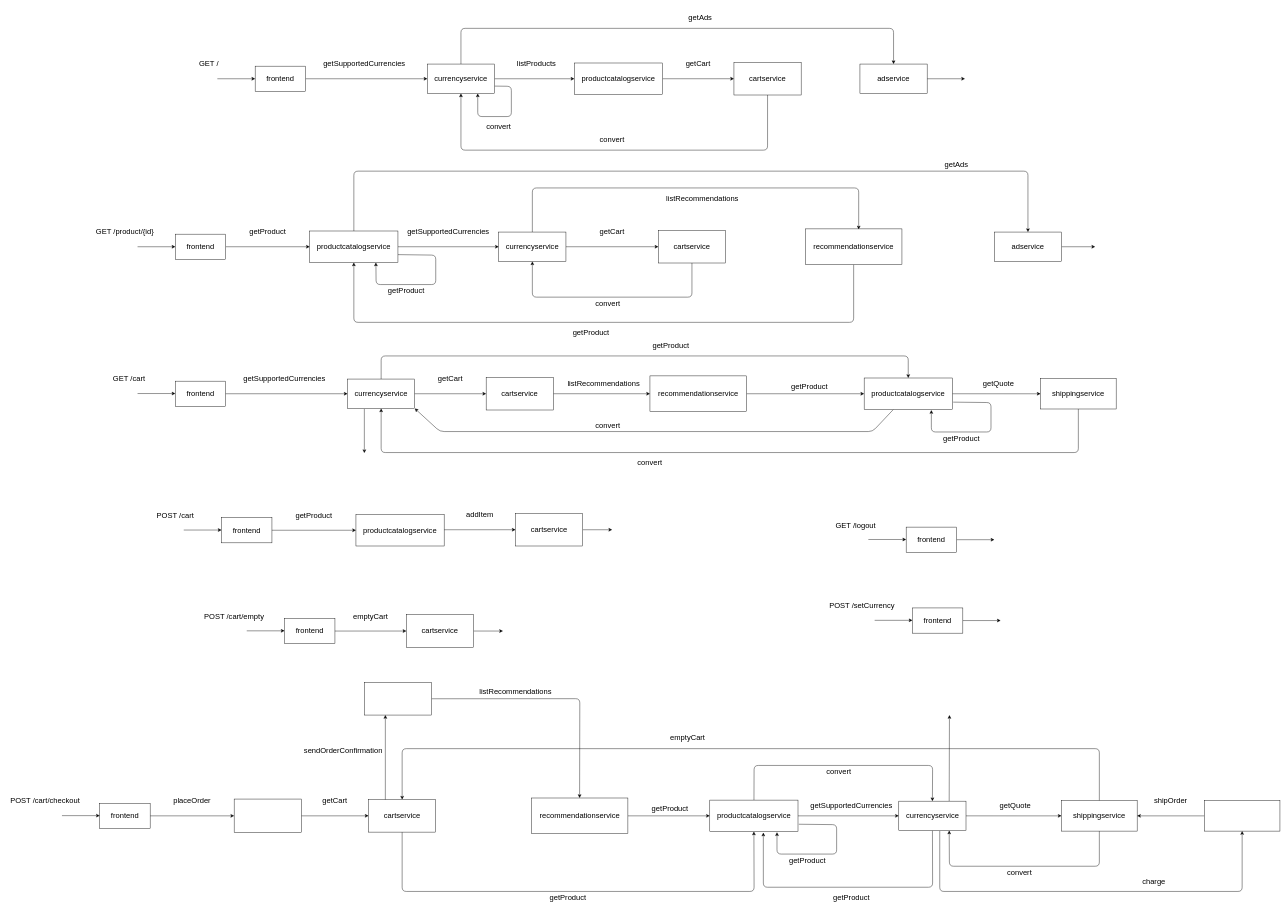
Some shapes in this 1287 by 915 pixel diagram are drawn without their labels. Here are the shapes that lost their labels. From the top down, the centre of each, then its label:
(x=398, y=698): emailservice
(x=267, y=816): checkoutservice
(x=1242, y=815): paymentservice
